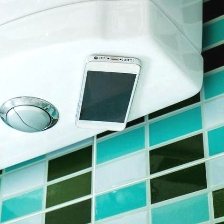phone: (70, 48, 145, 138)
